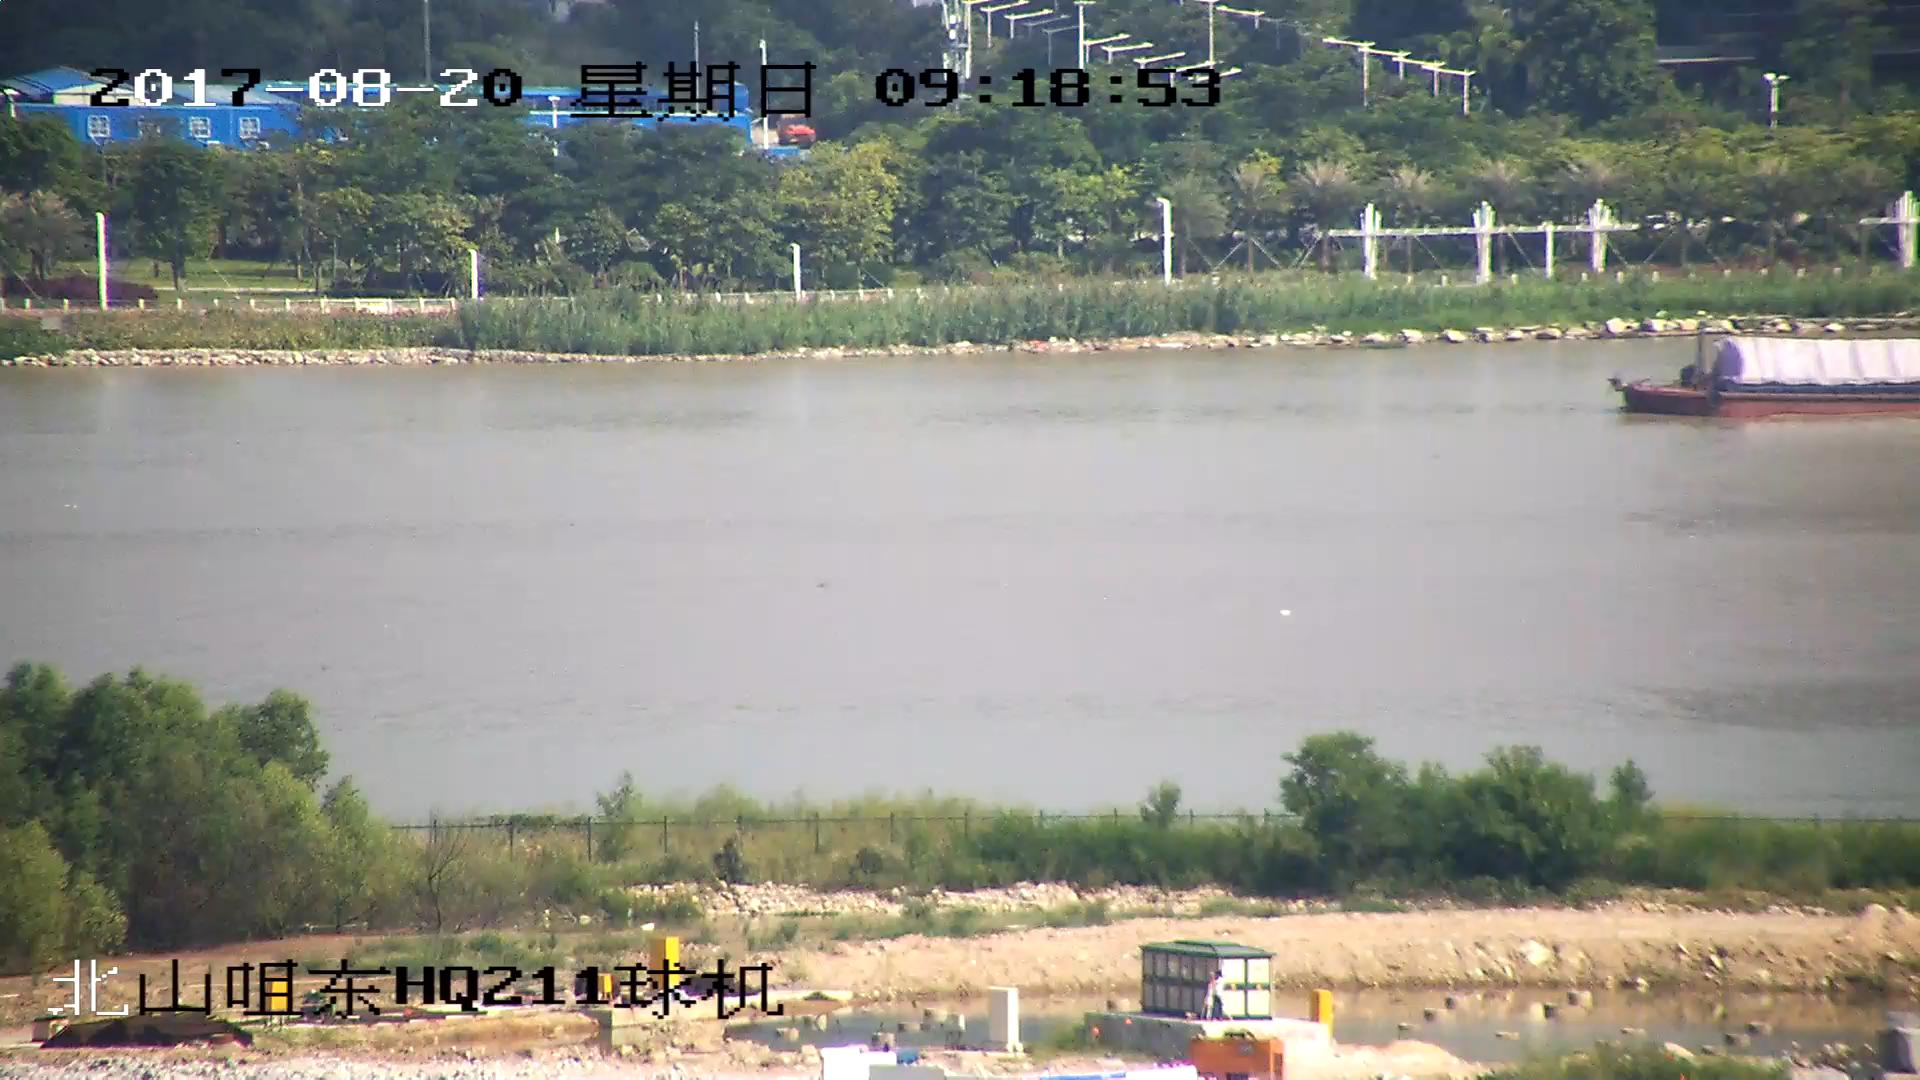general cargo ship: (1621, 336, 1920, 422)
